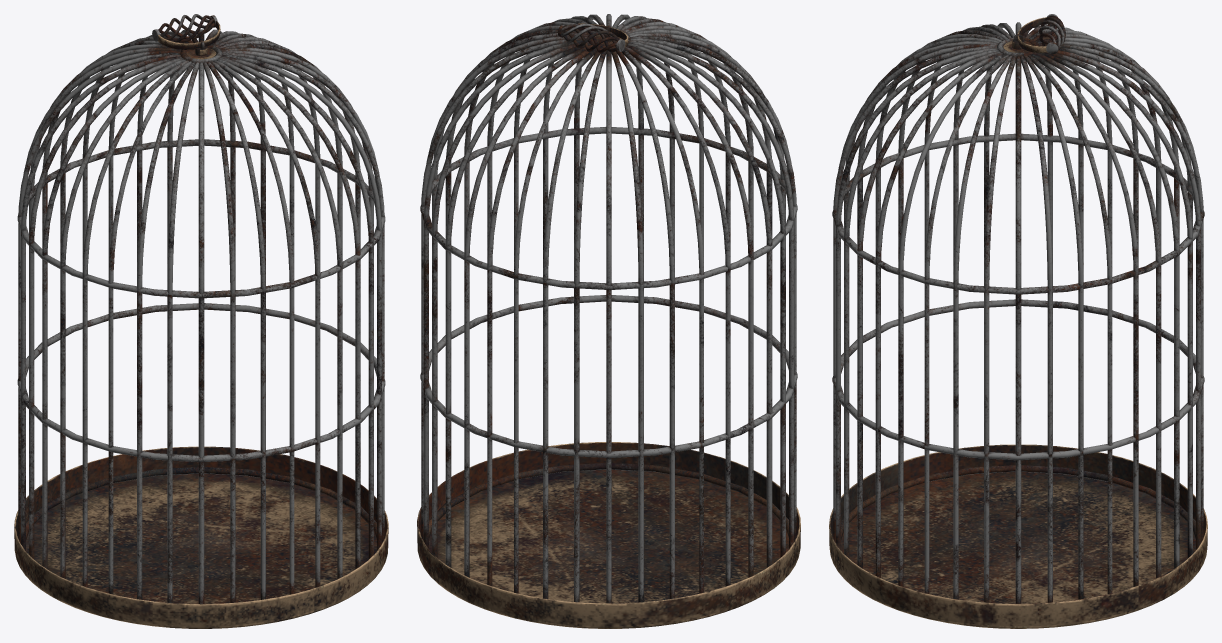
The model's file is round_rat_cage_-_steampunk.glb.
3 renders of one model, left to right at view 1: azimuth 30°, elevation 25°; view 2: azimuth 150°, elevation 25°; view 3: azimuth 270°, elevation 25°, orthographic. The views are drawn at different scales.
Visible parts, largest first — view 1: Cylinder.002; view 2: Cylinder.002; view 3: Cylinder.002.
Part boxes in pixels (box(x1,y1,x2,y2)): Cylinder.002: box(14, 14, 388, 628); Cylinder.002: box(417, 14, 800, 628); Cylinder.002: box(829, 14, 1207, 628).
Size of the model in its own units: 0.5001 by 0.7696 by 0.5001.
1 material, 1 textured.
